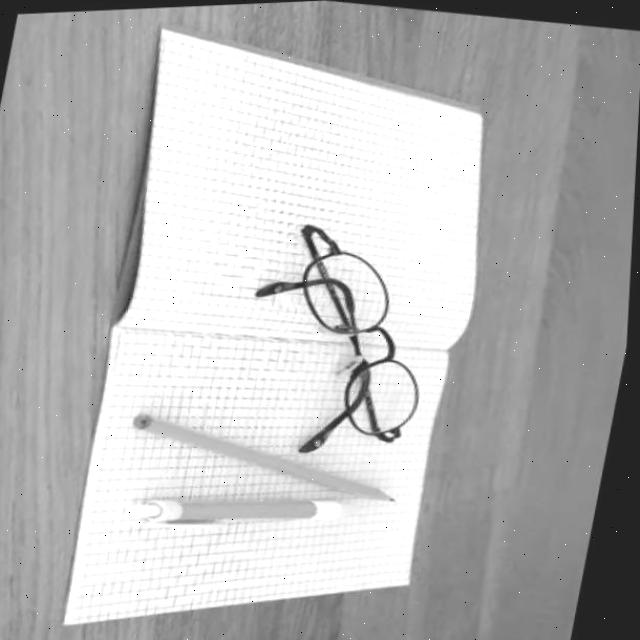pencil: (110, 406, 421, 511), (115, 486, 356, 539)
